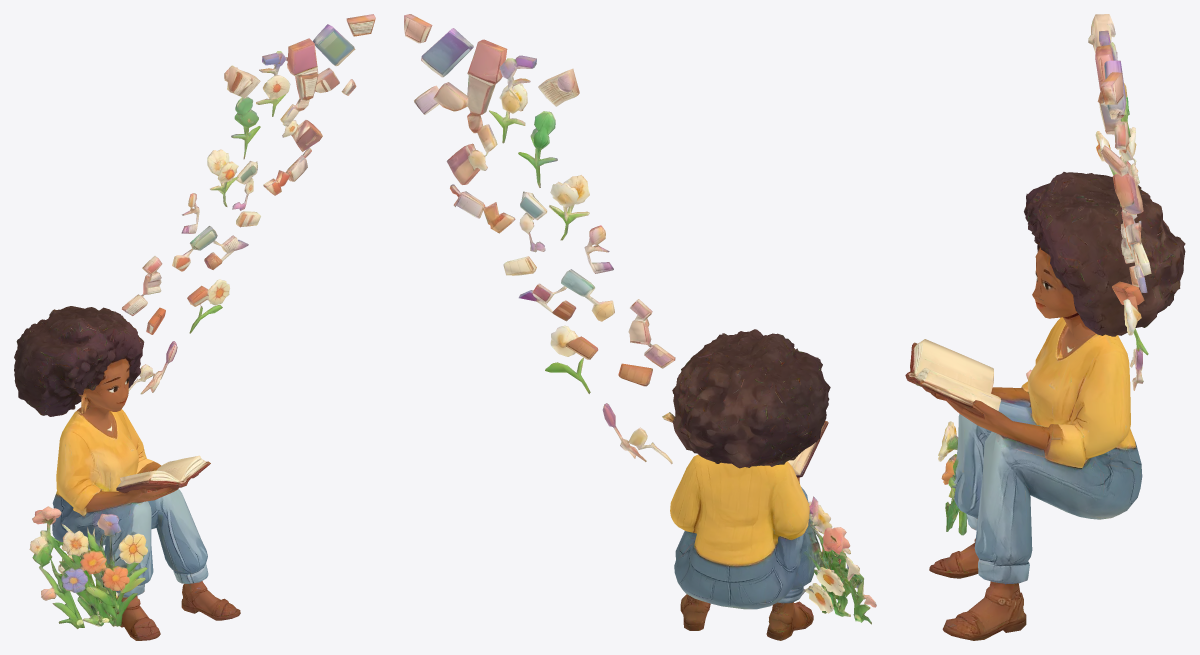
Rendered from livros.glb.
3 views of the same model, side by side, from view 1: azimuth 30°, elevation 25°; view 2: azimuth 150°, elevation 25°; view 3: azimuth 270°, elevation 25° (orthographic). The views are drawn at different scales.
Visible parts, largest first — view 1: ar-normalized; view 2: ar-normalized; view 3: ar-normalized.
Boxes of the visible parts, left/top/right/bottom form: ar-normalized: left=14, top=14, right=375, bottom=640; ar-normalized: left=404, top=14, right=876, bottom=640; ar-normalized: left=905, top=14, right=1185, bottom=640.
Bounding box in the file's own units: 0.7629 × 1 × 0.3716.
Materials: 1 (1 with a texture image).
